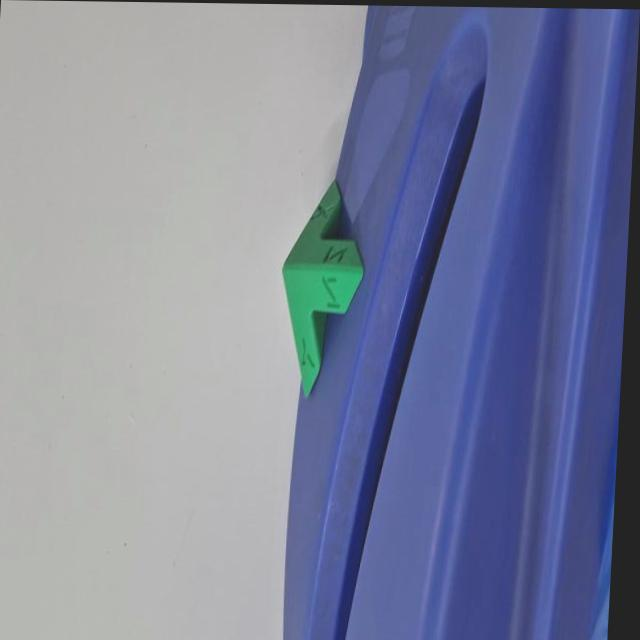eje: (272, 174, 370, 401)
